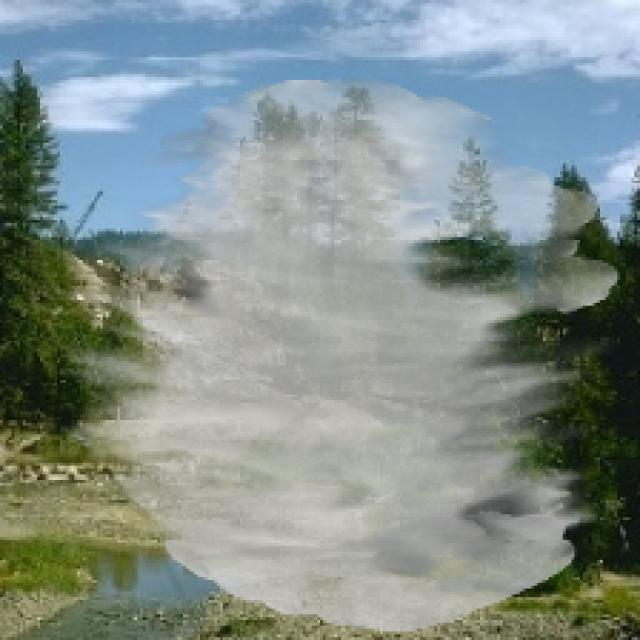Smoke: (63, 77, 620, 632)
